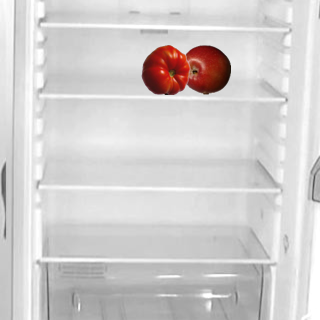Apple Braeburn: (180, 44, 230, 94)
Tomato 3: (140, 44, 190, 94)
